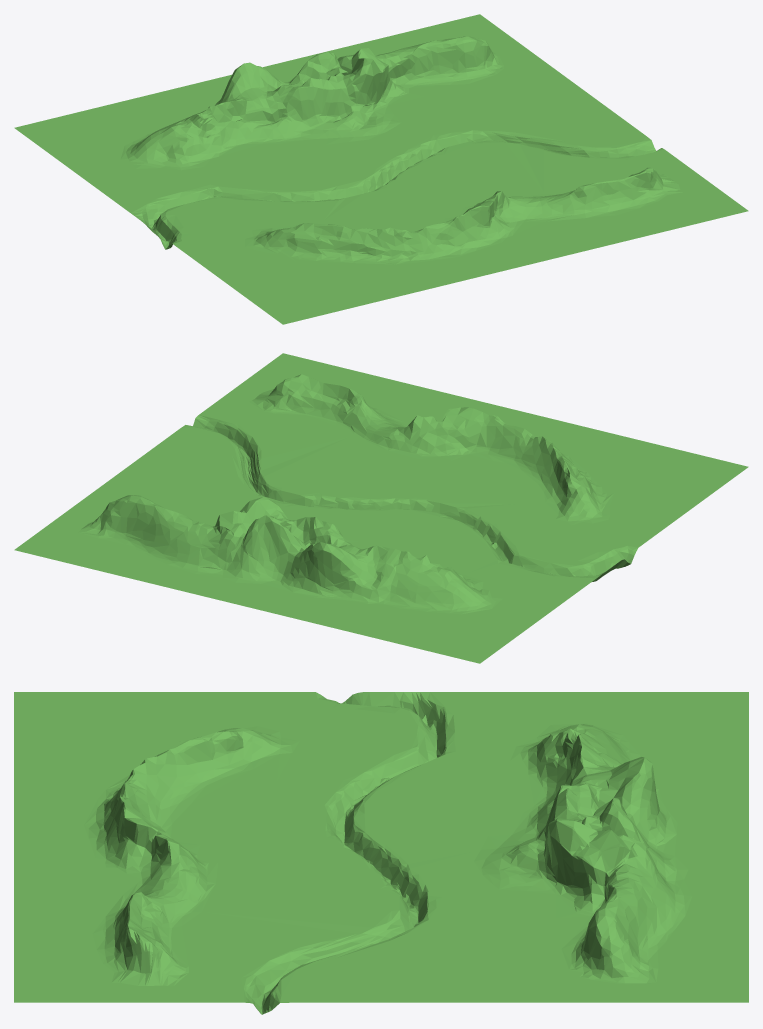
The model's file is Landscape1-Kevin.fbx.
3 renders of one model, top to bottom at view 1: azimuth 30°, elevation 25°; view 2: azimuth 150°, elevation 25°; view 3: azimuth 270°, elevation 25°, orthographic. The views are drawn at different scales.
Parts seen in each view (by area): view 1: pasted__pPlane1; view 2: pasted__pPlane1; view 3: pasted__pPlane1.
Part boxes in pixels (box(x1,y1,x2,y2)): pasted__pPlane1: box(14, 14, 748, 324); pasted__pPlane1: box(14, 353, 748, 663); pasted__pPlane1: box(14, 692, 748, 1014).
Size of the model in its own units: 24 by 3.04 by 24.
